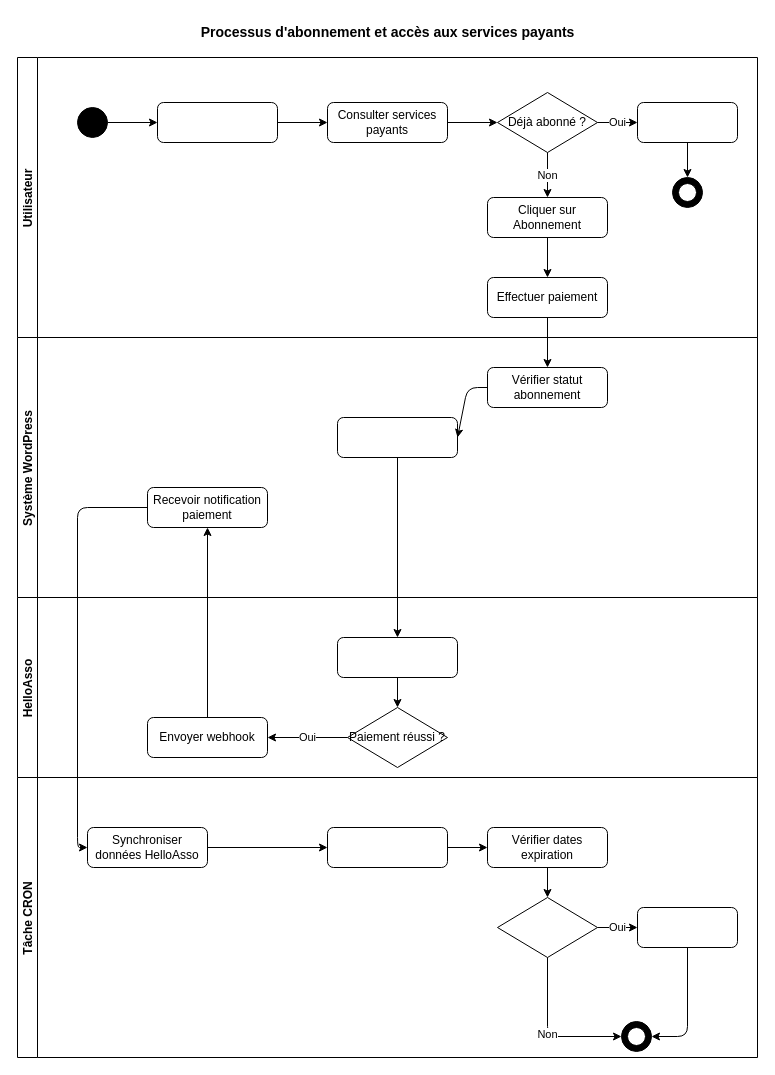
Image size: 775x1075. Some labels were removed from this diagram. Here are the shapes that lost their labels. From the top down, the centre of each, then its label:
At pixel 217 122: "Se connecter / S'inscrire".
At pixel 687 122: "Afficher services premium".
At pixel 397 437: "Rediriger vers page HelloAsso".
At pixel 397 657: "Traiter paiement".
At pixel 387 847: "Mettre à jour rôle utilisateur".
At pixel 547 927: "Abonnement expiré ?".
At pixel 687 927: "Rétrograder en Adhérent".
